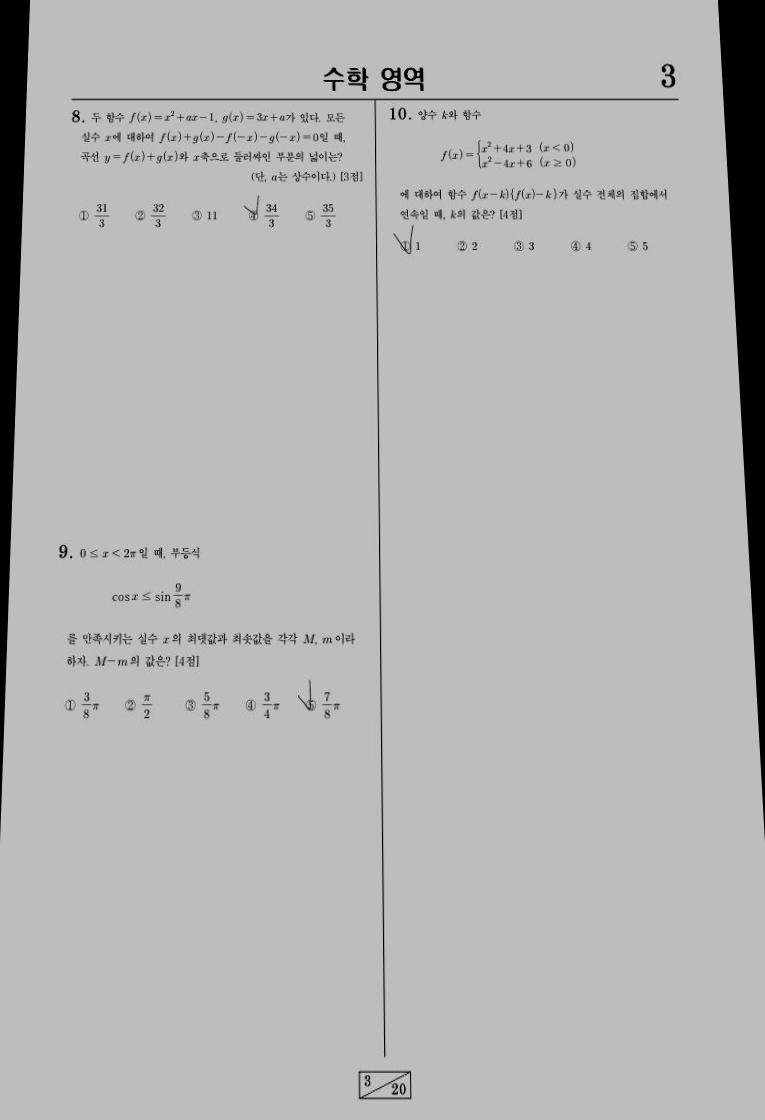question: (36, 531, 366, 732), (373, 97, 679, 269), (59, 102, 369, 247)
